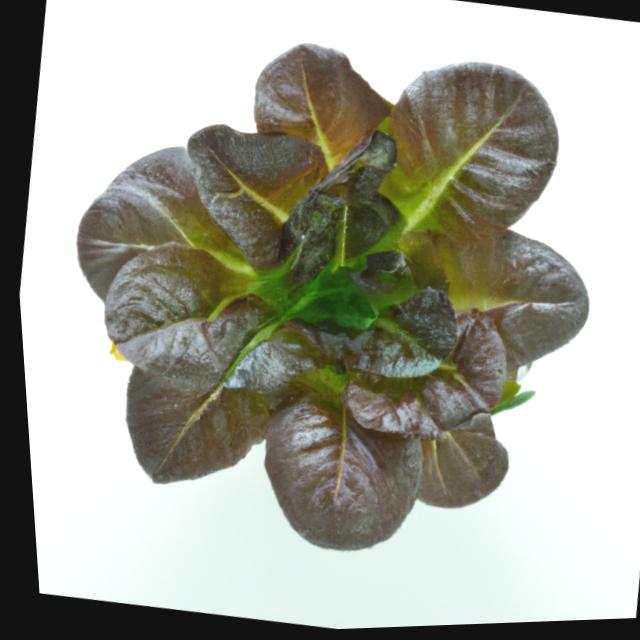-P: (6, 0, 640, 610)
